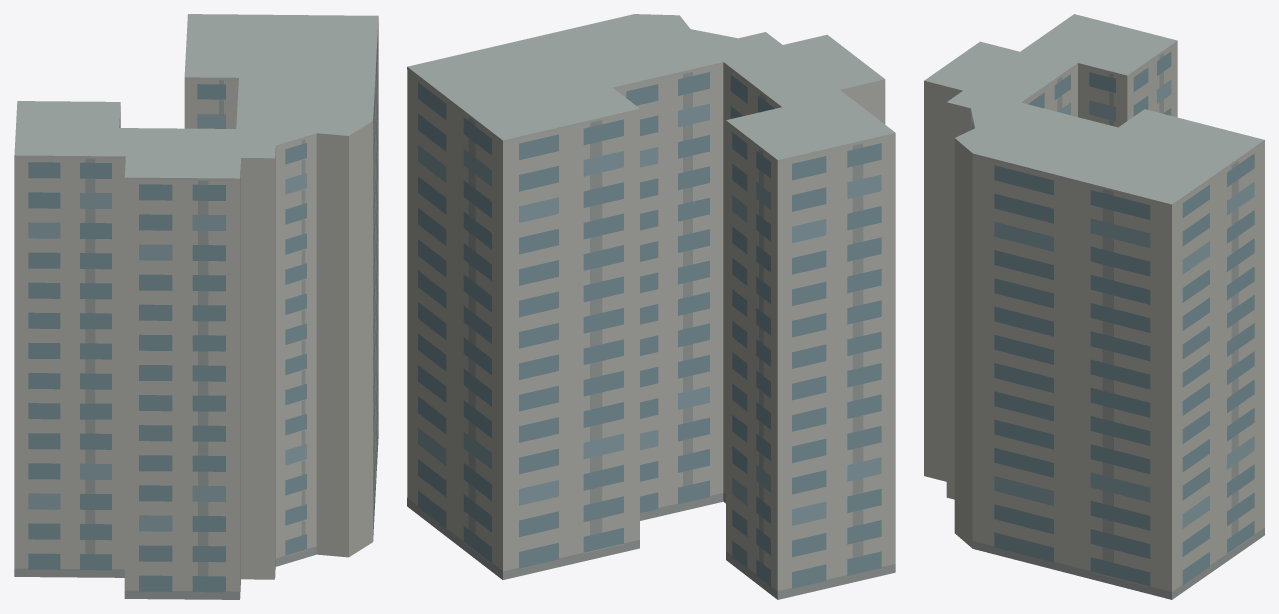
File: residential-021b9f42-23c3-40ec-b15f-e5e68cad1e7b.glb
3 renders of one model, left to right at view 1: azimuth 30°, elevation 25°; view 2: azimuth 150°, elevation 25°; view 3: azimuth 270°, elevation 25°, orthographic. The views are drawn at different scales.
Parts seen in each view (by area): view 1: residential-021b9f42-23c3-40ec-b15f-e5e68cad1e7b.tmp; view 2: residential-021b9f42-23c3-40ec-b15f-e5e68cad1e7b.tmp; view 3: residential-021b9f42-23c3-40ec-b15f-e5e68cad1e7b.tmp.
Boxes of the visible parts, <box> form: residential-021b9f42-23c3-40ec-b15f-e5e68cad1e7b.tmp: <box>14,14,378,599</box>; residential-021b9f42-23c3-40ec-b15f-e5e68cad1e7b.tmp: <box>407,14,895,599</box>; residential-021b9f42-23c3-40ec-b15f-e5e68cad1e7b.tmp: <box>924,14,1264,599</box>.
Size of the model in its own units: 41.35 by 40 by 31.26.
